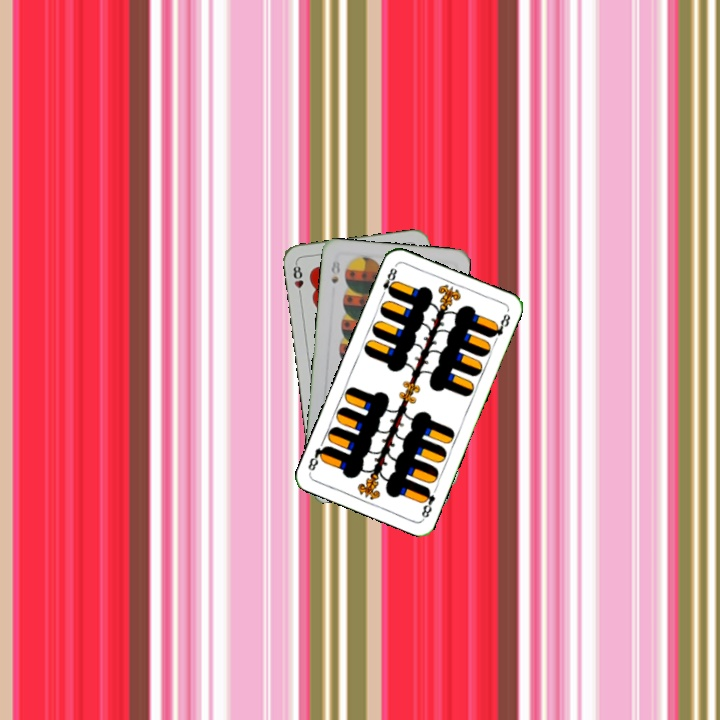E8: (377, 264, 400, 300), (417, 483, 438, 521)
H8: (289, 259, 306, 299)
S8: (327, 256, 343, 286)
